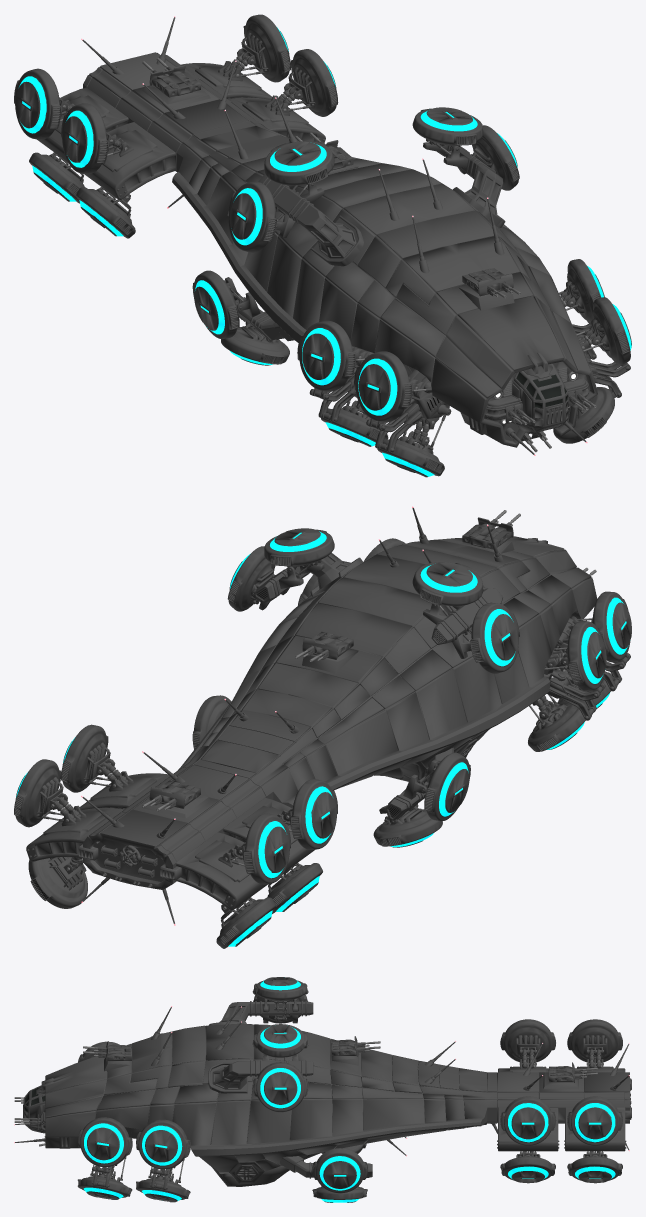
The model's file is Nebuchadnezzar.glb.
The picture shows the model from 3 angles, top to bottom: view 1: azimuth 30°, elevation 25°; view 2: azimuth 150°, elevation 25°; view 3: azimuth 270°, elevation 25°; orthographic projection. The views are drawn at different scales.
Visible parts, largest first — view 1: Main Chassis, Front Hoverpads, Back Hover Pads, Top Middle Hoverpads, Top Middle Hoverpad Struts, Bottom Middle Hoverpads, Front Hoverpad Chassis, Rear Top Turret, Antennae, Front Top Turret, Bottom Middle Hoverpad Struts, Rear Hover Pad Chassis; view 2: Main Chassis, Back Hover Pads, Top Middle Hoverpads, Front Hoverpads, Bottom Middle Hoverpads, Rear Top Turret, Top Middle Hoverpad Struts, Front Hoverpad Chassis, Antennae, Front Top Turret, Bottom Middle Hoverpad Struts, Rear Hover Pad Chassis (+1 smaller); view 3: Main Chassis, Back Hover Pads, Front Hoverpads, Top Middle Hoverpads, Top Middle Hoverpad Struts, Bottom Middle Hoverpads, Rear Top Turret, Antennae, Front Top Turret, Bottom Middle Hoverpad Struts, Rear Hover Pad Struts, Front Hoverpad Chassis.
Part boxes in pixels (x1,y1,x2,y2): Main Chassis: (37,52,597,447); Front Hoverpads: (297,259,631,477); Back Hover Pads: (14,14,338,238); Top Middle Hoverpads: (227,107,519,252); Top Middle Hoverpad Struts: (258,145,505,266); Bottom Middle Hoverpads: (192,270,289,365); Front Hoverpad Chassis: (309,324,630,453); Rear Top Turret: (142,57,358,174); Antennae: (81,16,587,455); Front Top Turret: (458,268,520,310); Bottom Middle Hoverpad Struts: (235,292,294,341); Rear Hover Pad Chassis: (62,61,290,156); Main Chassis: (26,536,597,910); Back Hover Pads: (14,724,337,948); Top Middle Hoverpads: (227,528,519,673); Front Hoverpads: (298,538,631,751); Bottom Middle Hoverpads: (192,695,470,847); Rear Top Turret: (142,632,358,818); Top Middle Hoverpad Struts: (254,552,502,644); Front Hoverpad Chassis: (532,618,630,720); Antennae: (81,506,503,925); Front Top Turret: (459,510,520,553); Bottom Middle Hoverpad Struts: (386,747,454,820); Rear Hover Pad Chassis: (61,771,289,867); Main Chassis: (14,1023,631,1186); Back Hover Pads: (500,1019,622,1183); Front Hoverpads: (77,1033,190,1202); Top Middle Hoverpads: (252,977,308,1112); Top Middle Hoverpad Struts: (208,1000,313,1093); Bottom Middle Hoverpads: (312,1143,367,1202); Rear Top Turret: (331,1036,597,1089); Antennae: (14,1006,629,1156); Front Top Turret: (83,1041,131,1071); Bottom Middle Hoverpad Struts: (280,1156,372,1178); Rear Hover Pad Struts: (522,1049,601,1153); Front Hoverpad Chassis: (93,1164,175,1189).
Size of the model in its own units: 0.7758 by 0.6167 by 2.
